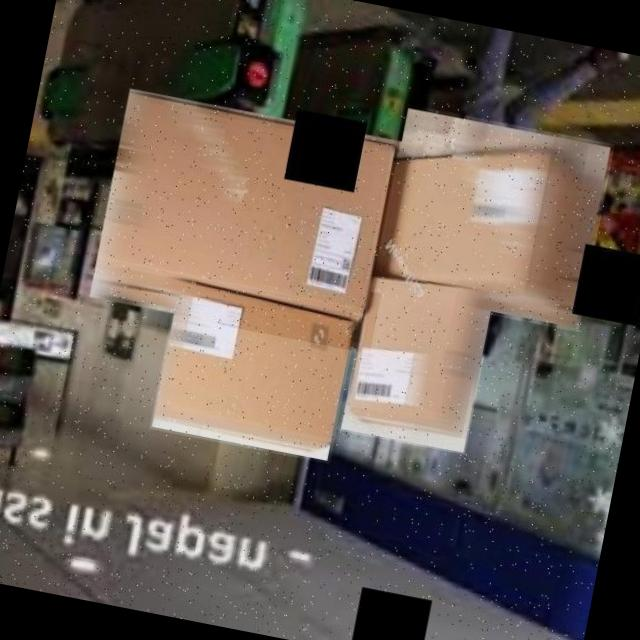box: (86, 84, 411, 354), (370, 104, 615, 332), (150, 274, 360, 464), (340, 260, 498, 455)
